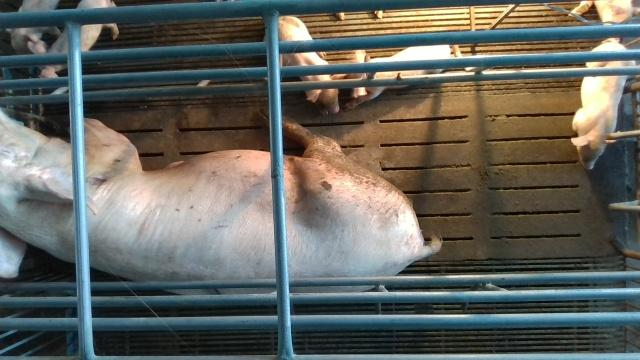piglet: (571, 38, 637, 171), (266, 17, 346, 114), (28, 0, 119, 79), (347, 45, 451, 109), (6, 0, 62, 54)
sow-sit: (0, 105, 443, 292)
